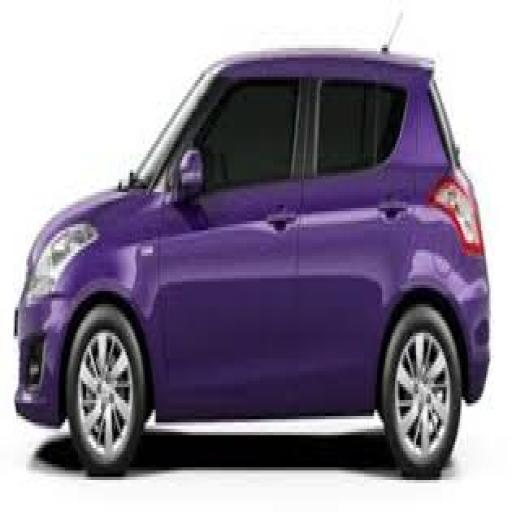car: (10, 23, 505, 506)
